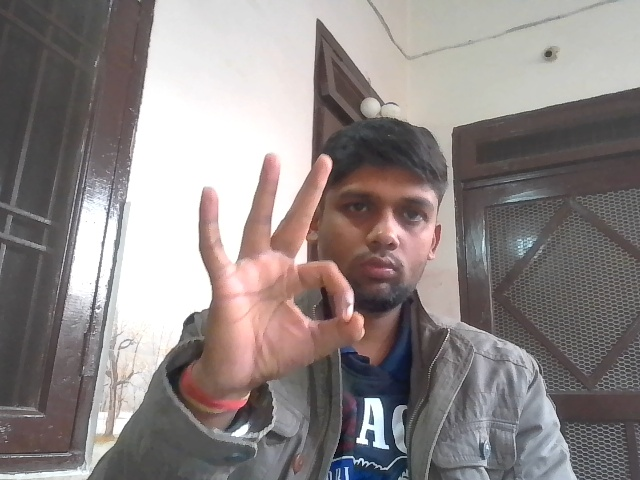Good: (182, 143, 369, 394)
